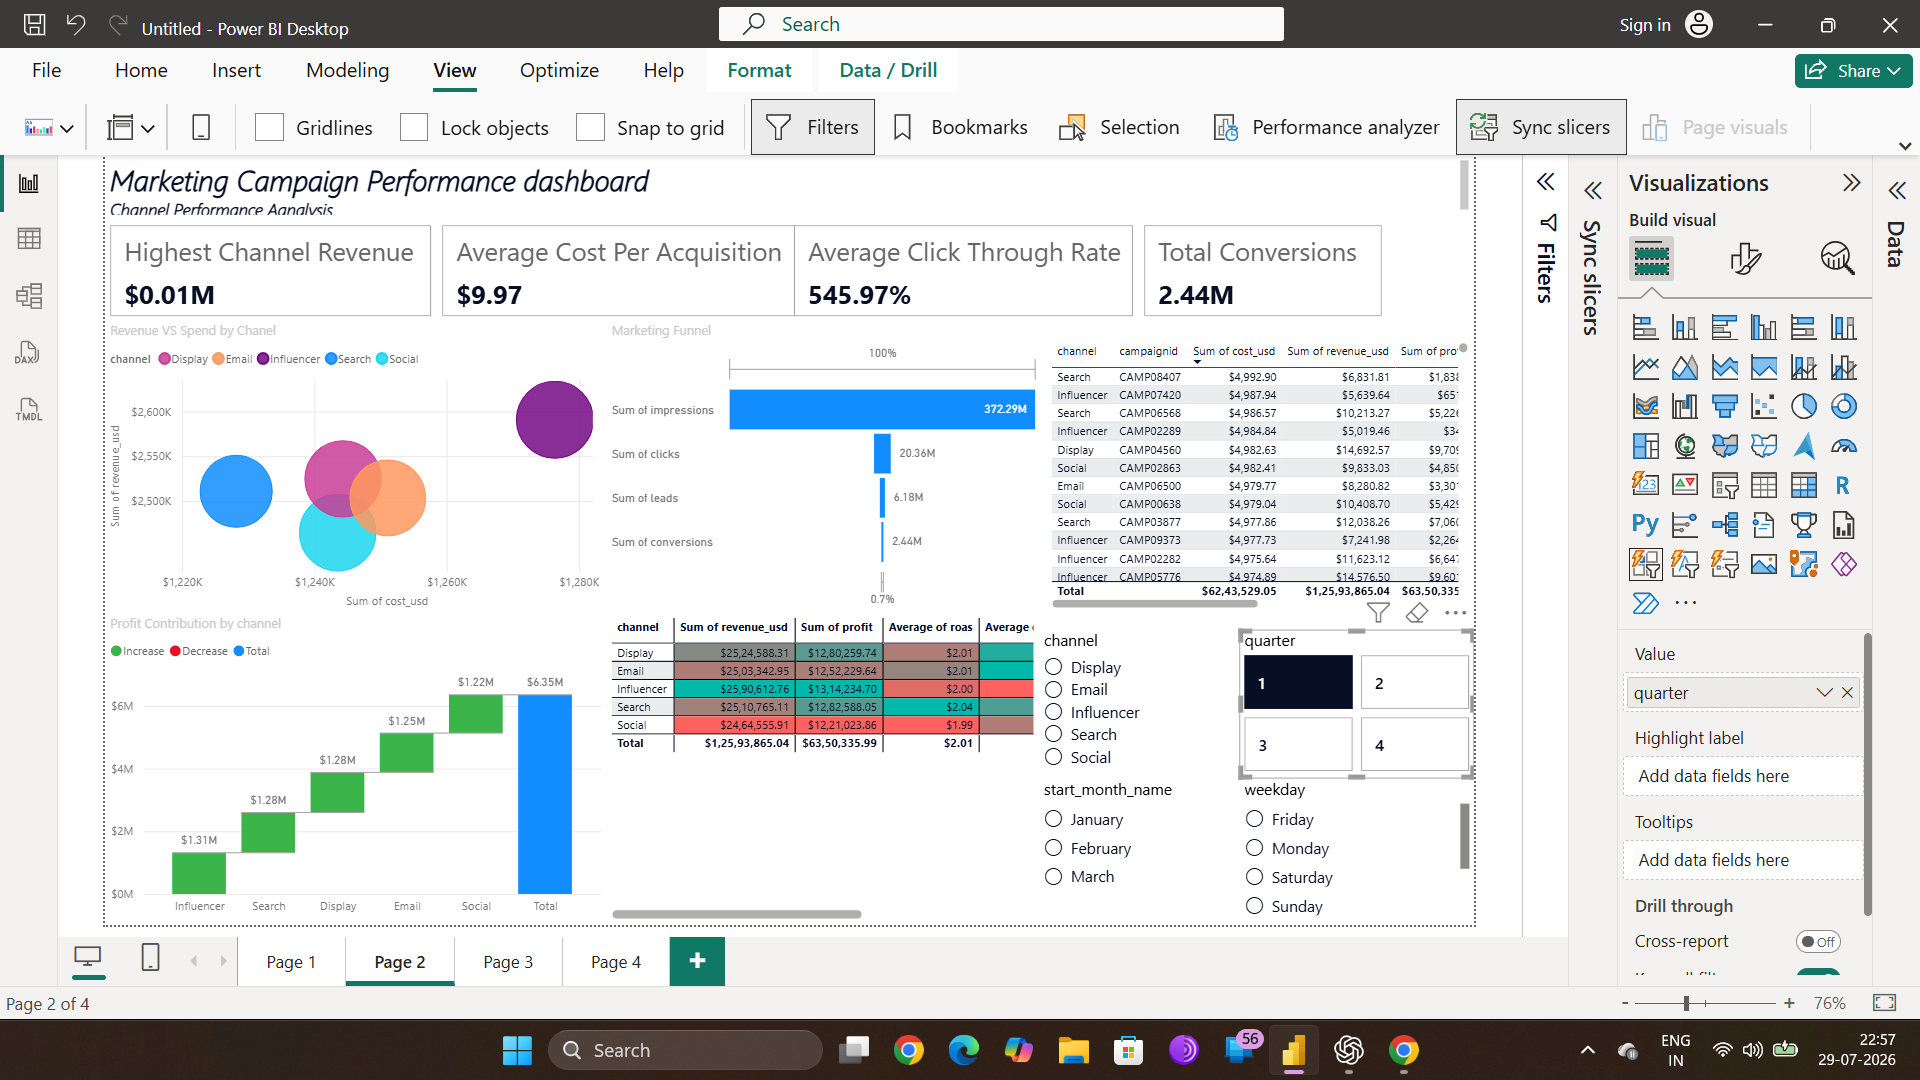

This screenshot's page, from the dashboard's own definition file:
{"tool":"powerbi","page":{"name":"Page 2","canvas":[1280,720],"ordinal":1},"visuals":[{"type":"textbox","box":[0,0,1279.8,60.9],"z":0},{"type":"cardVisual","fields":{"Data":["Max(marketing_campaign_engineered.revenue_usd)"]},"box":[0,60.8,310.4,95.1],"z":1000},{"type":"cardVisual","fields":{"Data":["Avg(marketing_campaign_engineered.cpa)"]},"box":[310.4,60.8,344.7,95.1],"z":2000},{"type":"cardVisual","fields":{"Data":["Avg(marketing_campaign_engineered.ctr)"]},"box":[639.2,60.8,327.5,95.1],"z":3000},{"type":"cardVisual","fields":{"Data":["Sum(marketing_campaign_engineered.conversions)"]},"box":[966.8,60.8,232.5,95.1],"z":4000},{"type":"scatterChart","title":"Revenue VS Spend by Chanel","fields":{"X":["Sum(marketing_campaign_engineered.cost_usd)"],"Y":["Sum(marketing_campaign_engineered.revenue_usd)"],"Size":["Sum(marketing_campaign_engineered.conversions)"],"Series":["marketing_campaign_engineered.channel"],"Category":["marketing_campaign_engineered.channel"]},"box":[0,156.3,480.1,272.6],"z":5000},{"type":"funnel","title":"Marketing Funnel","fields":{"Y":["Sum(marketing_campaign_engineered.impressions)","Sum(marketing_campaign_engineered.clicks)","Sum(marketing_campaign_engineered.leads)","Sum(marketing_campaign_engineered.conversions)"]},"box":[469,156.3,410.9,272.6],"z":6000},{"type":"pivotTable","fields":{"Rows":["marketing_campaign_engineered.channel"],"Values":["Sum(marketing_campaign_engineered.revenue_usd)","Sum(marketing_campaign_engineered.profit)","Avg(marketing_campaign_engineered.roas)","Avg(marketing_campaign_engineered.ctr)","Avg(marketing_campaign_engineered.cpa)","Sum(marketing_campaign_engineered.conversions)"]},"box":[468.6,428.6,404.3,291.4],"z":7000},{"type":"waterfallChart","title":"Profit Contribution by channel","fields":{"Category":["marketing_campaign_engineered.channel"],"Y":["Sum(marketing_campaign_engineered.profit)"]},"box":[0,428.9,469,290.5],"z":8000},{"type":"tableEx","fields":{"Values":["marketing_campaign_engineered.channel","marketing_campaign_engineered.campaignid","Sum(marketing_campaign_engineered.cost_usd)","Sum(marketing_campaign_engineered.revenue_usd)","Sum(marketing_campaign_engineered.profit)","Avg(marketing_campaign_engineered.roas)","Avg(marketing_campaign_engineered.cpa)","Avg(marketing_campaign_engineered.ctr)","Sum(marketing_campaign_engineered.conversions)"]},"box":[879.9,170.2,399.8,258.7],"z":9000},{"type":"advancedSlicerVisual","fields":{"Values":["marketing_campaign_engineered.quarter"]},"box":[1060,444.3,220,138.6],"z":9001},{"type":"listSlicer","fields":{"Values":["marketing_campaign_engineered.channel"]},"box":[872.9,444.3,187.1,138.6],"z":9002},{"type":"listSlicer","fields":{"Values":["marketing_campaign_engineered.start_month_name"]},"box":[872.9,582.9,187.1,137.1],"z":9003},{"type":"listSlicer","fields":{"Values":["marketing_campaign_engineered.weekday"]},"box":[1060,582.9,220,137.1],"z":9004}]}

Visuals, with their boxes on the page's 1280x720 design canvas (x1, y1, x2, y2). These are canvas units, not pixel positions in the 1920x1080 screenshot, which may show the page scaled, cropped or inside an application window:
textbox: left=0, top=0, right=1280, bottom=61
cardVisual - Max(marketing_campaign_engineered.revenue_usd): left=0, top=61, right=310, bottom=156
cardVisual - Avg(marketing_campaign_engineered.cpa): left=310, top=61, right=655, bottom=156
cardVisual - Avg(marketing_campaign_engineered.ctr): left=639, top=61, right=967, bottom=156
cardVisual - Sum(marketing_campaign_engineered.conversions): left=967, top=61, right=1199, bottom=156
"Revenue VS Spend by Chanel" scatterChart: left=0, top=156, right=480, bottom=429
"Marketing Funnel" funnel: left=469, top=156, right=880, bottom=429
pivotTable - marketing_campaign_engineered.channel x Sum(marketing_campaign_engineered.revenue_usd): left=469, top=429, right=873, bottom=720
"Profit Contribution by channel" waterfallChart: left=0, top=429, right=469, bottom=719
tableEx - marketing_campaign_engineered.channel x marketing_campaign_engineered.campaignid: left=880, top=170, right=1280, bottom=429
advancedSlicerVisual - marketing_campaign_engineered.quarter: left=1060, top=444, right=1280, bottom=583
listSlicer - marketing_campaign_engineered.channel: left=873, top=444, right=1060, bottom=583
listSlicer - marketing_campaign_engineered.start_month_name: left=873, top=583, right=1060, bottom=720
listSlicer - marketing_campaign_engineered.weekday: left=1060, top=583, right=1280, bottom=720
